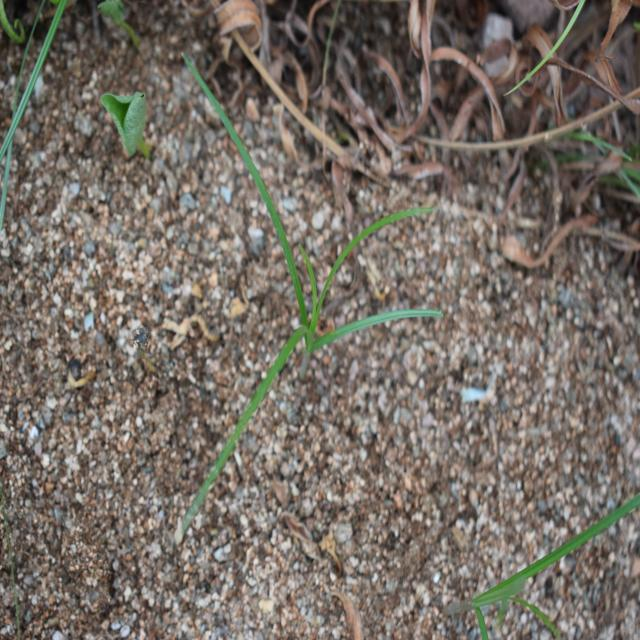sedge: (164, 90, 436, 524)
